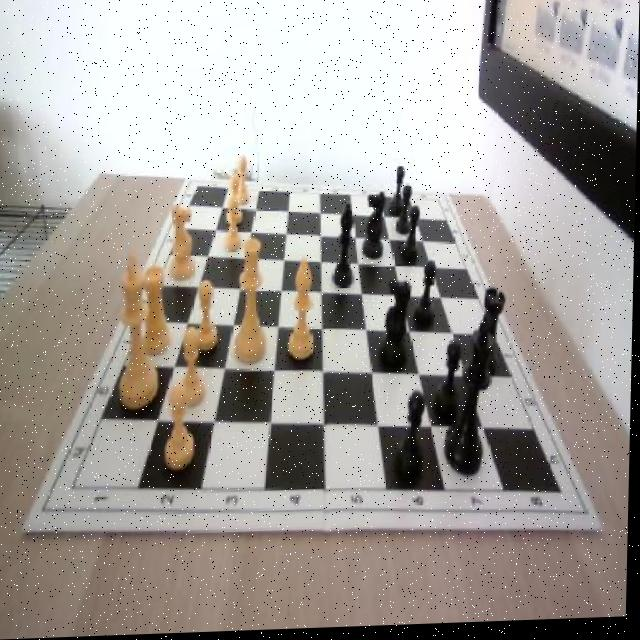bishop: (333, 202, 357, 290)
black-bishop: (445, 316, 495, 482)
black-king: (379, 283, 413, 376), (363, 192, 387, 262)
black-knight: (397, 397, 429, 485), (436, 340, 463, 426), (413, 260, 437, 330), (363, 192, 387, 262), (403, 211, 421, 267), (390, 170, 407, 222), (397, 188, 414, 237)
black-queen: (472, 290, 507, 376)
black-rook: (289, 258, 318, 362)
white-bishop: (114, 255, 162, 410)
white-king: (170, 204, 197, 280)
white-knight: (164, 385, 199, 475), (182, 329, 213, 412), (194, 280, 221, 352), (225, 197, 245, 254), (227, 174, 243, 228), (236, 156, 250, 206)
white-pawn: (235, 238, 269, 366)
white-queen: (141, 267, 174, 356)
